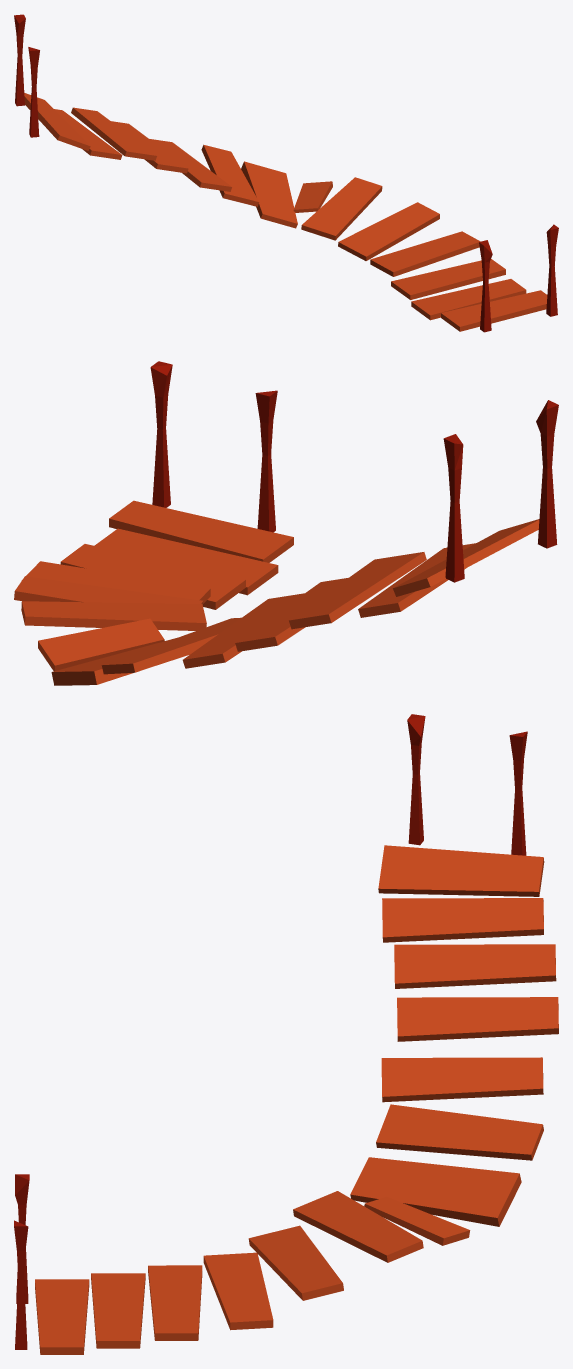
The model's file is Bridge.obj.
3 views of the same model, one above another, from view 1: azimuth 30°, elevation 25°; view 2: azimuth 150°, elevation 25°; view 3: azimuth 270°, elevation 25° (orthographic). The views are drawn at different scales.
Parts seen in each view (by area): view 1: Cube.002, Cube, Cube.001; view 2: Cube.002, Cube.001, Cube; view 3: Cube.002, Cube.001, Cube.
Boxes of the visible parts, x1=… form: Cube.002: x1=24, y1=93, x2=547, y2=331; Cube: x1=479, y1=224, x2=558, y2=332; Cube.001: x1=14, y1=14, x2=39, y2=137; Cube.002: x1=14, y1=500, x2=539, y2=685; Cube.001: x1=443, y1=400, x2=558, y2=582; Cube: x1=150, y1=361, x2=277, y2=532; Cube.002: x1=35, y1=845, x2=558, y2=1354; Cube.001: x1=407, y1=714, x2=527, y2=855; Cube: x1=14, y1=1174, x2=29, y2=1349.
Bounding box in the file's own units: 34.44 × 21.42 × 28.86.
